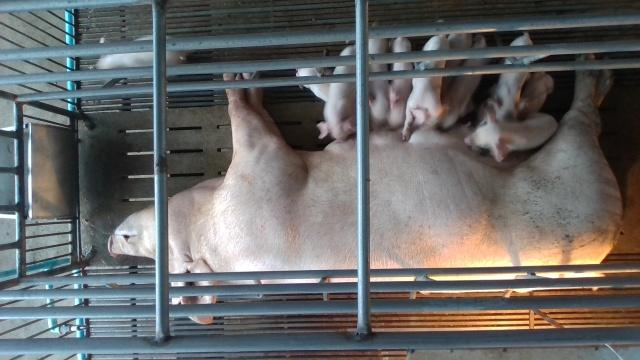piglet: (440, 34, 492, 130), (401, 36, 448, 142), (464, 110, 557, 162), (489, 32, 534, 120), (318, 45, 358, 143), (388, 36, 414, 128), (369, 22, 390, 131), (519, 71, 555, 111), (297, 67, 329, 102)
sow-sleep-lactate: (112, 53, 620, 324)
